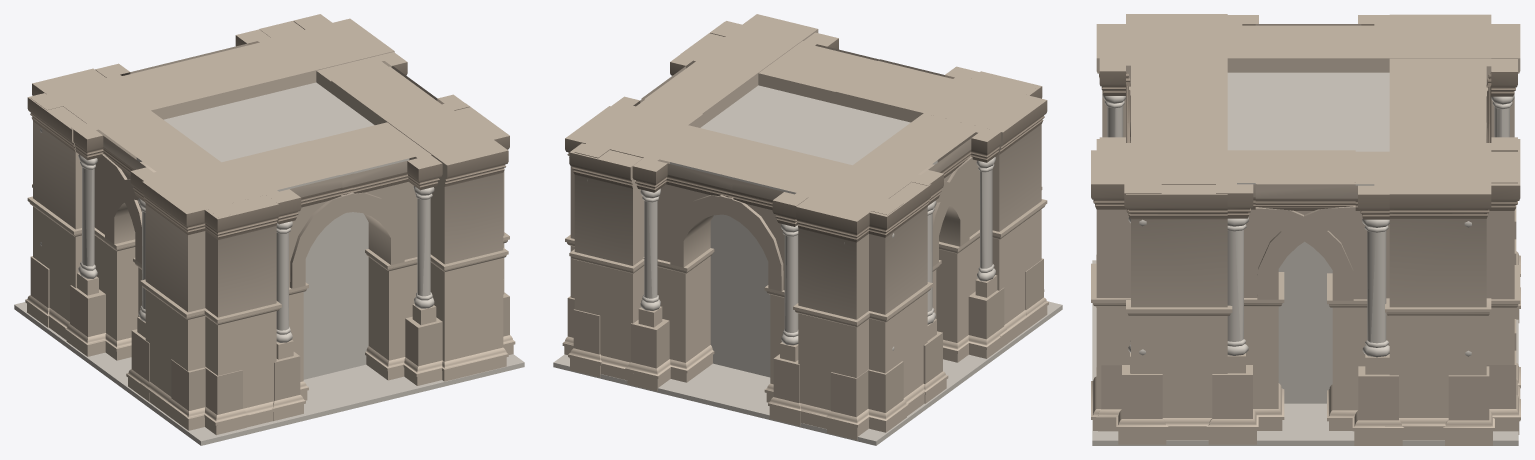
Rendered from ewallll.fbx.
3 renders of one model, left to right at view 1: azimuth 30°, elevation 25°; view 2: azimuth 150°, elevation 25°; view 3: azimuth 270°, elevation 25°, orthographic. The views are drawn at different scales.
Visible parts, largest first — view 1: Mesh01.001, Mesh01.004, Mesh01.005, Mesh01.006, Mesh01.003, Cube.002, Mesh01.009, Mesh01.010, Cube.001, Mesh01.002; view 2: Mesh01.010, Mesh01.009, Mesh01.006, Mesh01.001, Cube.002, Mesh01.005, Mesh01.002, Mesh01.004, Cube.001, Mesh01.003; view 3: Mesh01.004, Mesh01.010, Mesh01.002, Mesh01.003, Cube.002, Mesh01.006, Mesh01.001, Mesh01.009, Cube.001, Mesh01.005.
Part boxes in pixels (x1,y1,x2,y2): Mesh01.001: (140, 141, 354, 434); Mesh01.004: (331, 66, 515, 381); Mesh01.005: (101, 136, 281, 430); Mesh01.006: (25, 68, 208, 360); Mesh01.003: (310, 103, 509, 385); Cube.002: (136, 82, 409, 379); Mesh01.009: (27, 56, 239, 340); Mesh01.010: (184, 15, 394, 100); Cube.001: (14, 302, 524, 445); Mesh01.002: (259, 14, 407, 92); Mesh01.010: (565, 106, 768, 391); Mesh01.009: (719, 143, 933, 440); Mesh01.006: (793, 122, 972, 432); Mesh01.001: (835, 59, 1047, 343); Cube.002: (670, 85, 937, 377); Mesh01.005: (866, 71, 1048, 362); Mesh01.002: (562, 96, 702, 380); Mesh01.004: (641, 14, 818, 125); Cube.001: (553, 301, 1062, 445); Mesh01.003: (681, 22, 891, 106); Mesh01.004: (1091, 150, 1355, 444); Mesh01.010: (1385, 101, 1520, 440); Mesh01.002: (1255, 151, 1520, 445); Mesh01.003: (1096, 107, 1232, 440); Cube.002: (1227, 72, 1389, 403); Mesh01.006: (1255, 15, 1520, 151); Mesh01.001: (1096, 14, 1227, 307); Mesh01.009: (1389, 14, 1520, 322); Cube.001: (1092, 260, 1518, 445); Mesh01.005: (1096, 15, 1361, 150).
Bounding box in the file's own units: 374 × 244 × 376.
